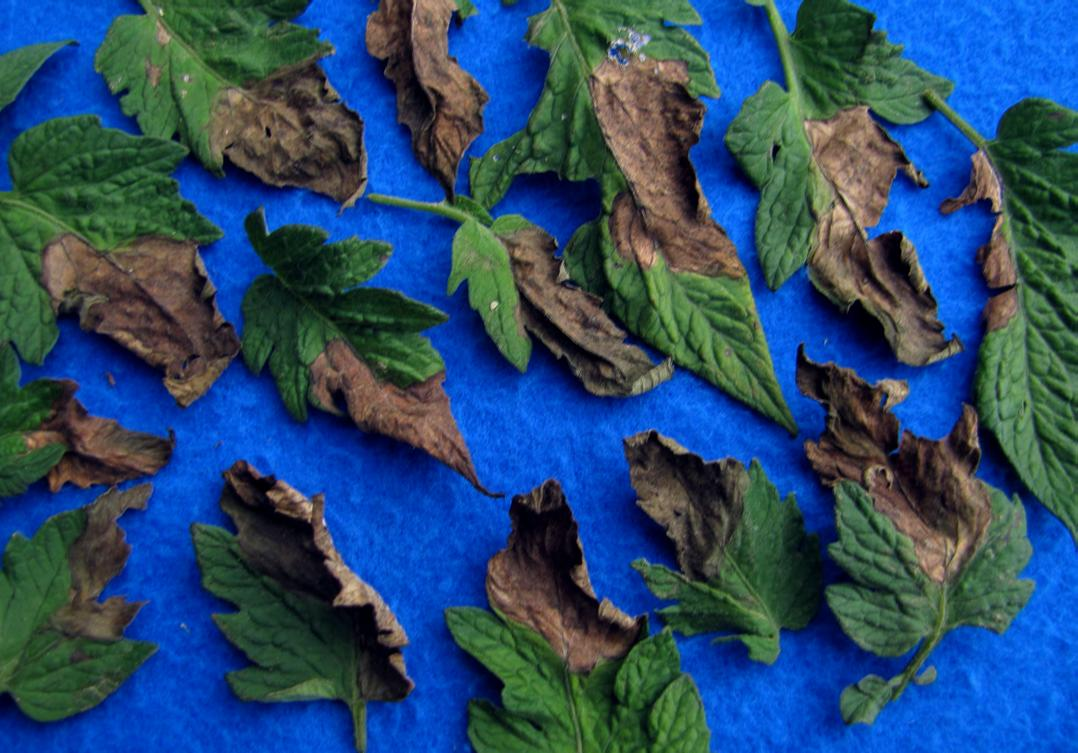Tomato leaf late blight: (539, 0, 781, 414), (786, 347, 1036, 719), (734, 0, 957, 374), (450, 486, 733, 753), (187, 452, 428, 733), (228, 219, 479, 462), (68, 0, 371, 200), (591, 425, 854, 650), (949, 81, 1078, 529), (406, 202, 678, 406), (0, 480, 155, 744), (0, 370, 182, 500)
